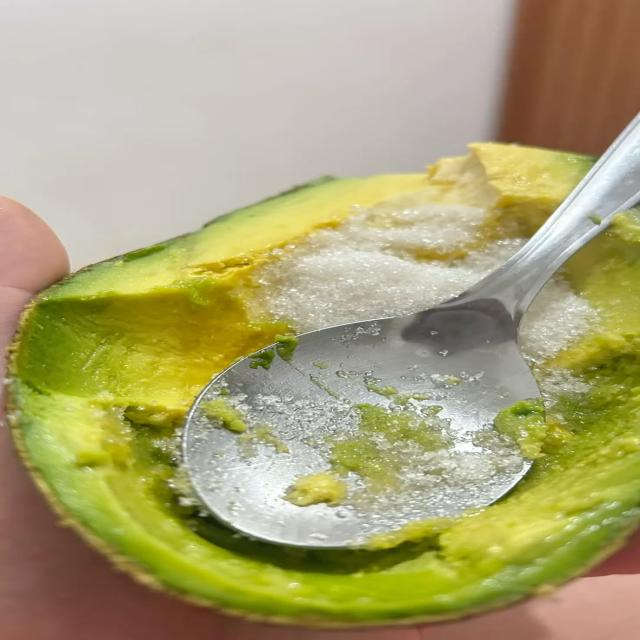avocado: (8, 144, 639, 625)
